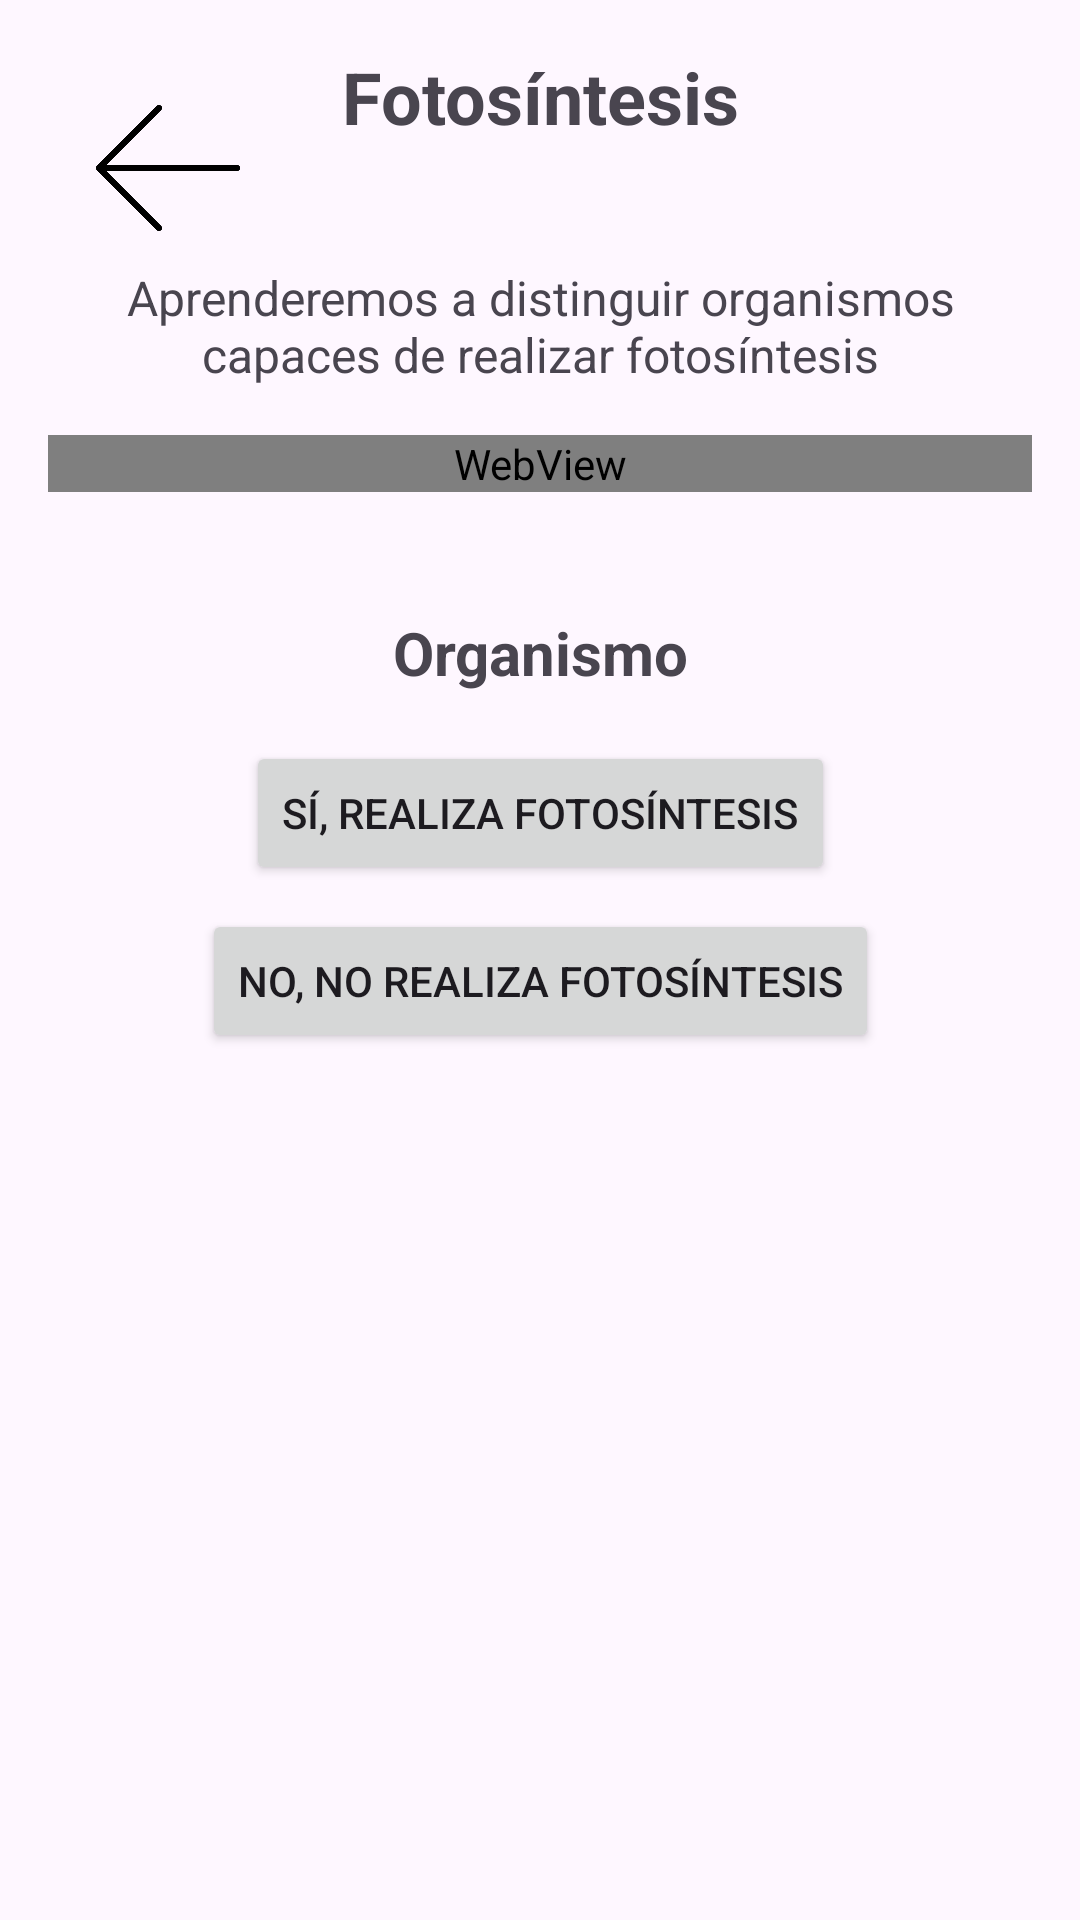

Named icons in this screenshot (1080×1920) and their centers, [x,y]:
Botón de volver: [168,168]
